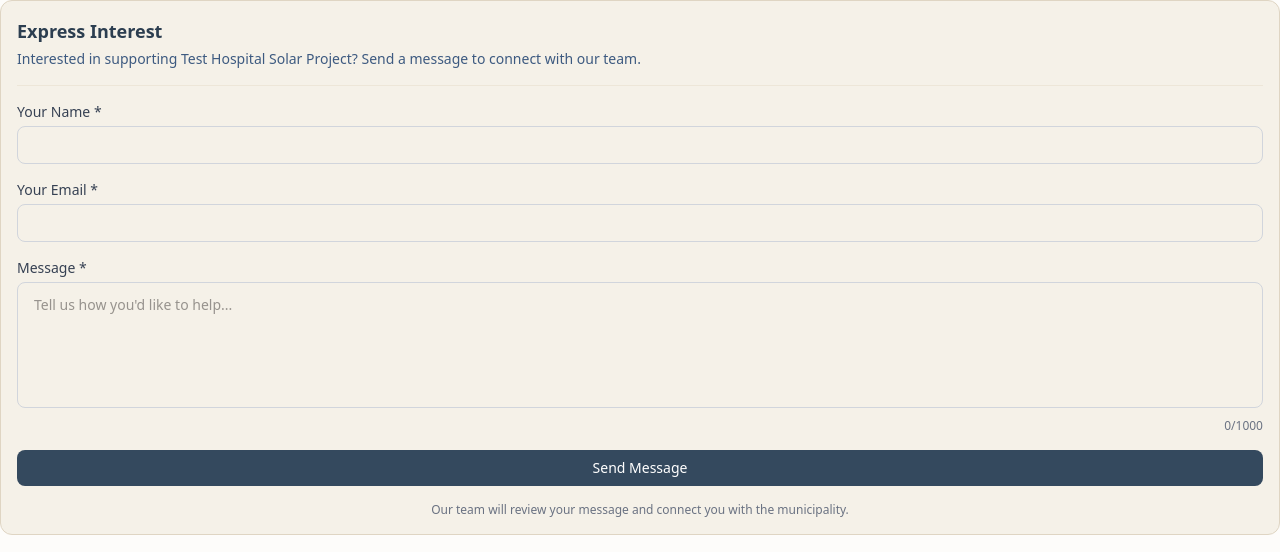
it: ContactForm › Form submission › submits form successfully and shows success message
Type "John Doe" into the field labelled "Your Name *". click: (640, 145)
box: [17, 126, 1263, 164]
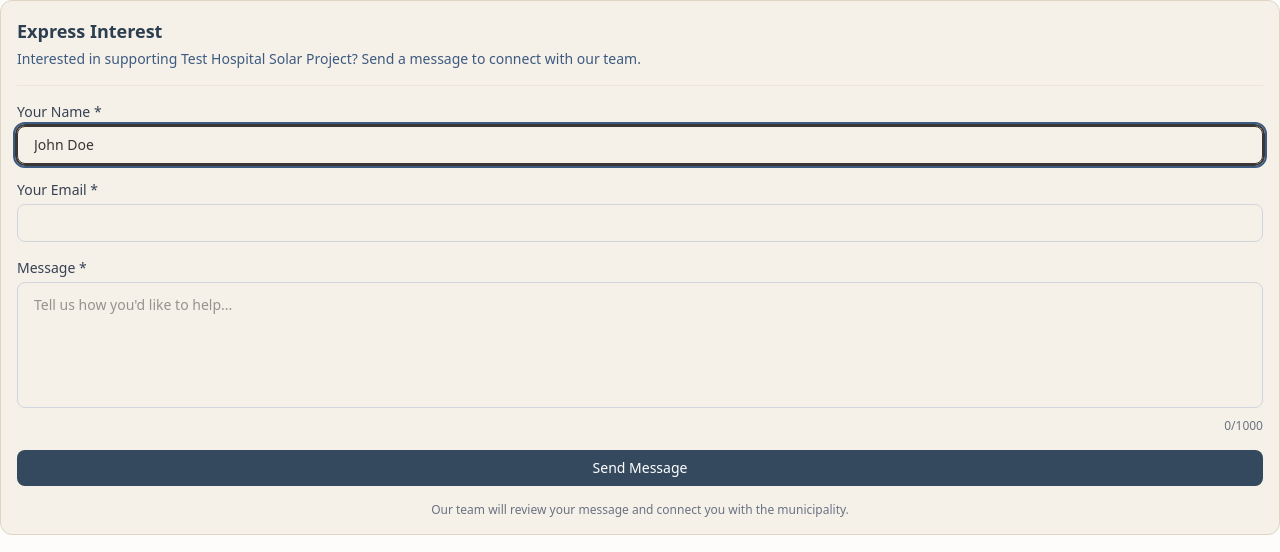
Type "john@example.com" into the field labelled "Your Email *". click: (640, 223)
box: [17, 204, 1263, 242]
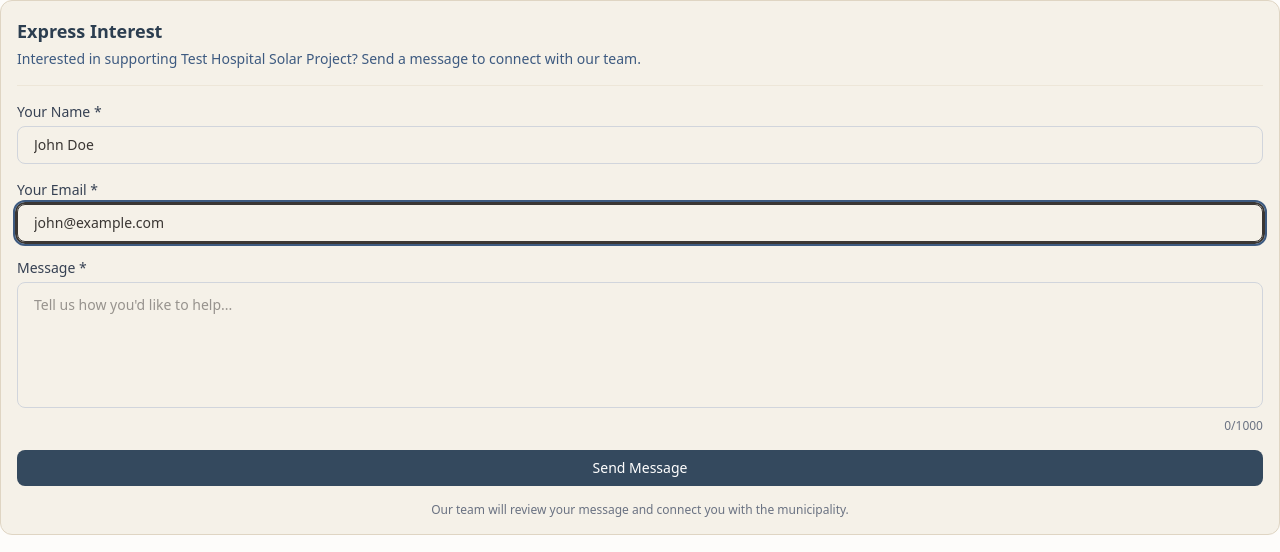
Type "This is a detailed message about how I want to help with this project." into the text box labelled "Message *". click: (640, 345)
box: [17, 282, 1263, 408]
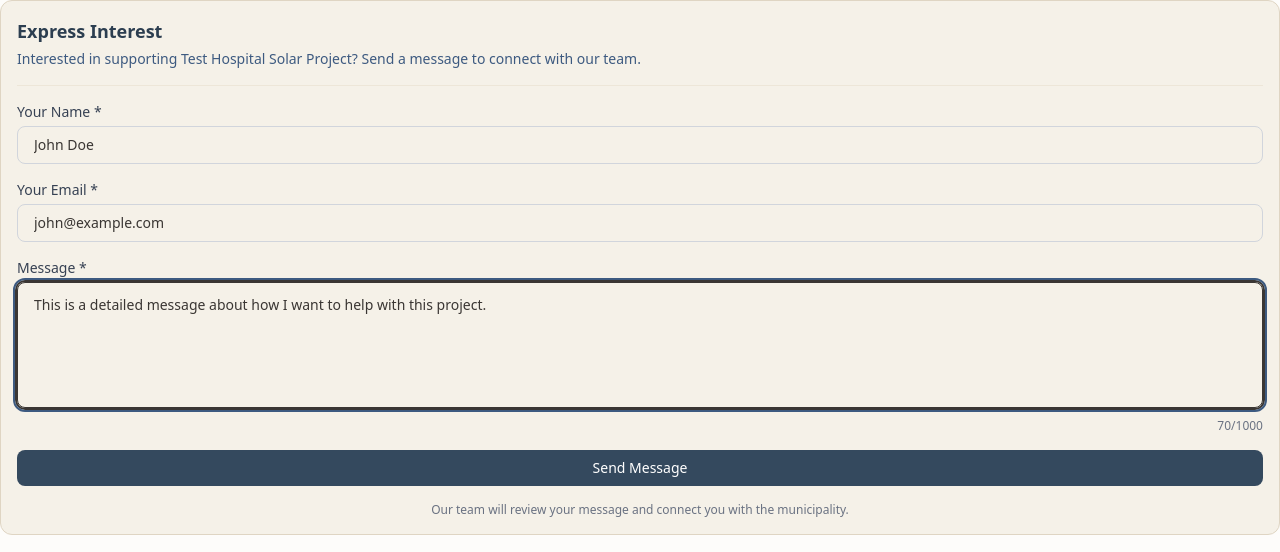
Click the button "Send Message". click: (640, 468)
box: [17, 450, 1263, 486]
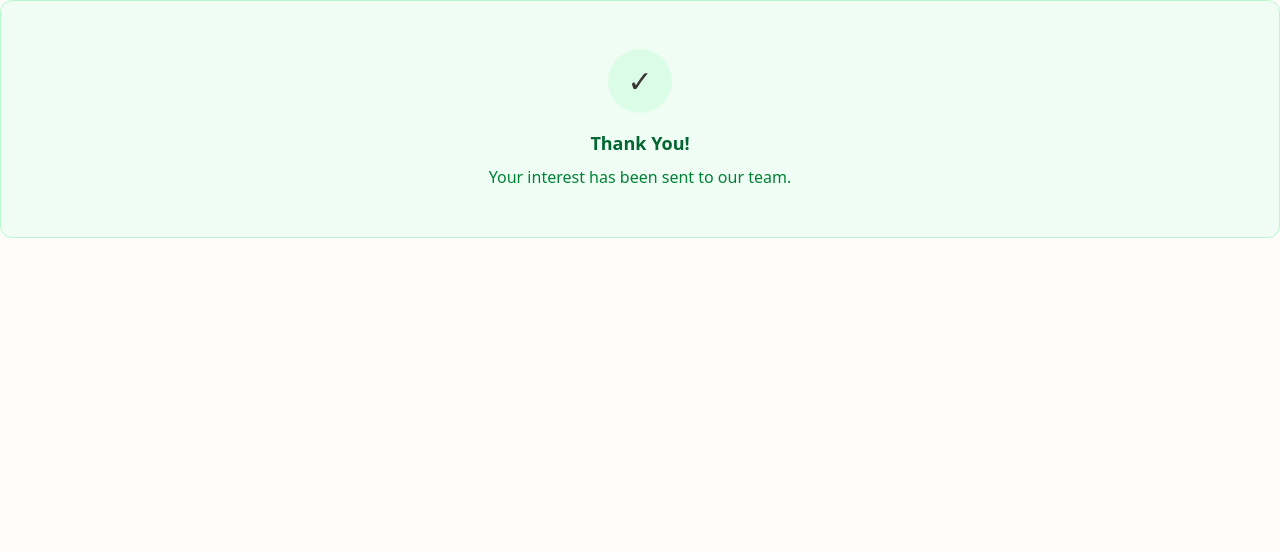
Check: the heading "Thank You!" is shown, box [590, 131, 690, 155]
